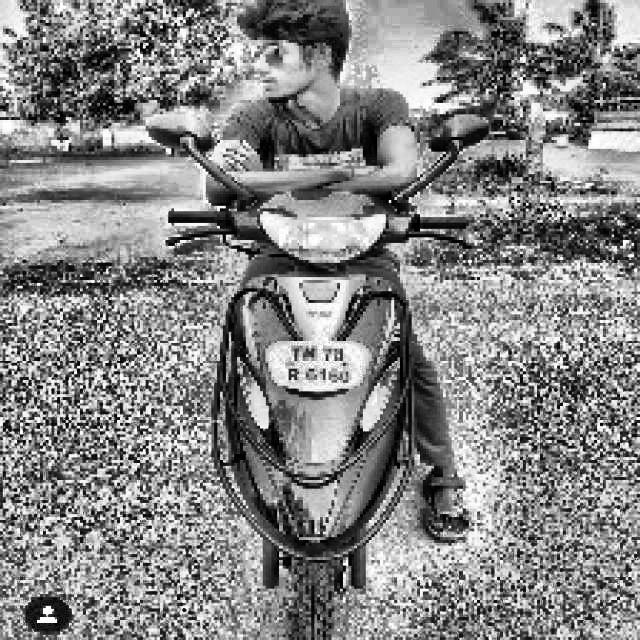motorcycle: (140, 101, 464, 640)
